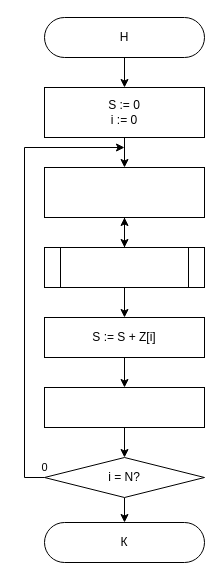
Some shapes in this 222 by 580 pixel diagram are drawn without their labels. The centre of each missing label's shape, as x and y in pixels:
"B := X[i] C := Y[i]" goes at point 124,192.
"i := i +1" goes at point 124,407.
"Z[i] := BC" goes at point 124,267.
